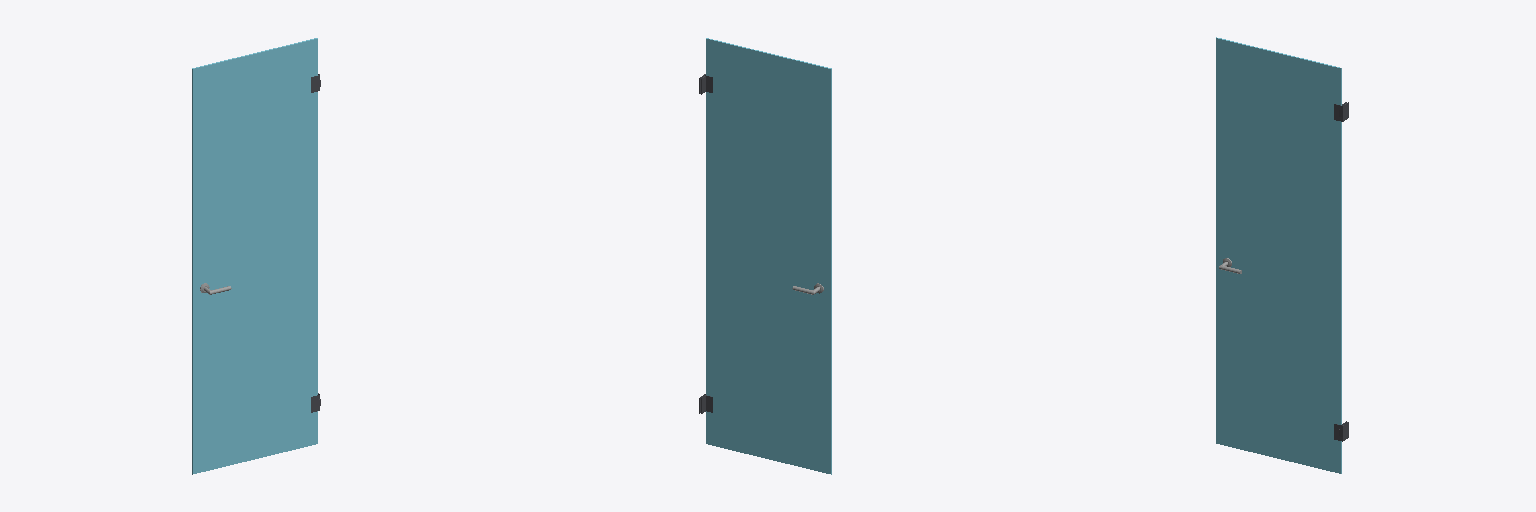
File: Tuere_WC.obj
3 renders of one model, left to right at view 1: azimuth 30°, elevation 25°; view 2: azimuth 150°, elevation 25°; view 3: azimuth 330°, elevation 25°, orthographic.
Visible parts, largest first — view 1: Mesh1 Component_209 G_21_T_re_WC_dwg1 Model; view 2: Mesh1 Component_209 G_21_T_re_WC_dwg1 Model; view 3: Mesh1 Component_209 G_21_T_re_WC_dwg1 Model.
Boxes of the visible parts, box(x1,y1,x2,y2) form: Mesh1 Component_209 G_21_T_re_WC_dwg1 Model: box(192, 38, 317, 474); Mesh1 Component_209 G_21_T_re_WC_dwg1 Model: box(706, 38, 831, 474); Mesh1 Component_209 G_21_T_re_WC_dwg1 Model: box(1216, 37, 1341, 473).
Size of the model in its own units: 75.78 by 230 by 15.86.